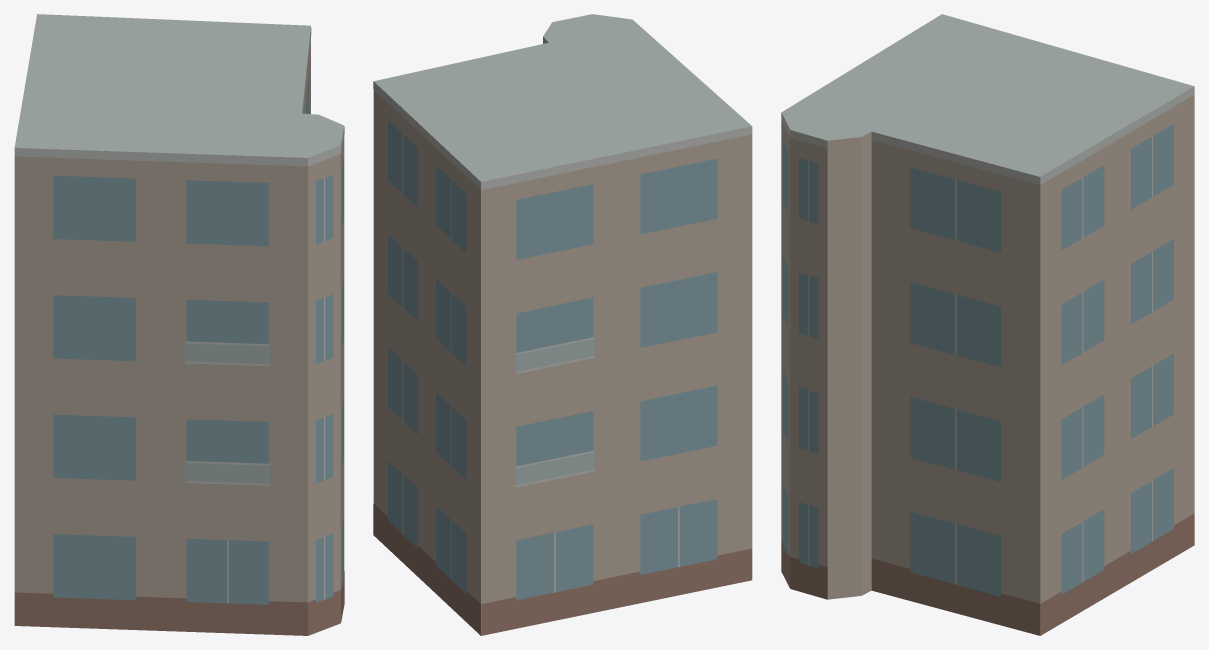
File: survey-upis-32717669.glb
3 renders of one model, left to right at view 1: azimuth 30°, elevation 25°; view 2: azimuth 150°, elevation 25°; view 3: azimuth 270°, elevation 25°, orthographic. The views are drawn at different scales.
Visible parts, largest first — view 1: survey-upis-32717669.tmp; view 2: survey-upis-32717669.tmp; view 3: survey-upis-32717669.tmp.
Boxes of the visible parts, x1=… form: survey-upis-32717669.tmp: x1=14, y1=14, x2=344, y2=635; survey-upis-32717669.tmp: x1=373, y1=14, x2=752, y2=635; survey-upis-32717669.tmp: x1=781, y1=14, x2=1194, y2=635.
Size of the model in its own units: 10.36 by 13.6 by 11.11.
